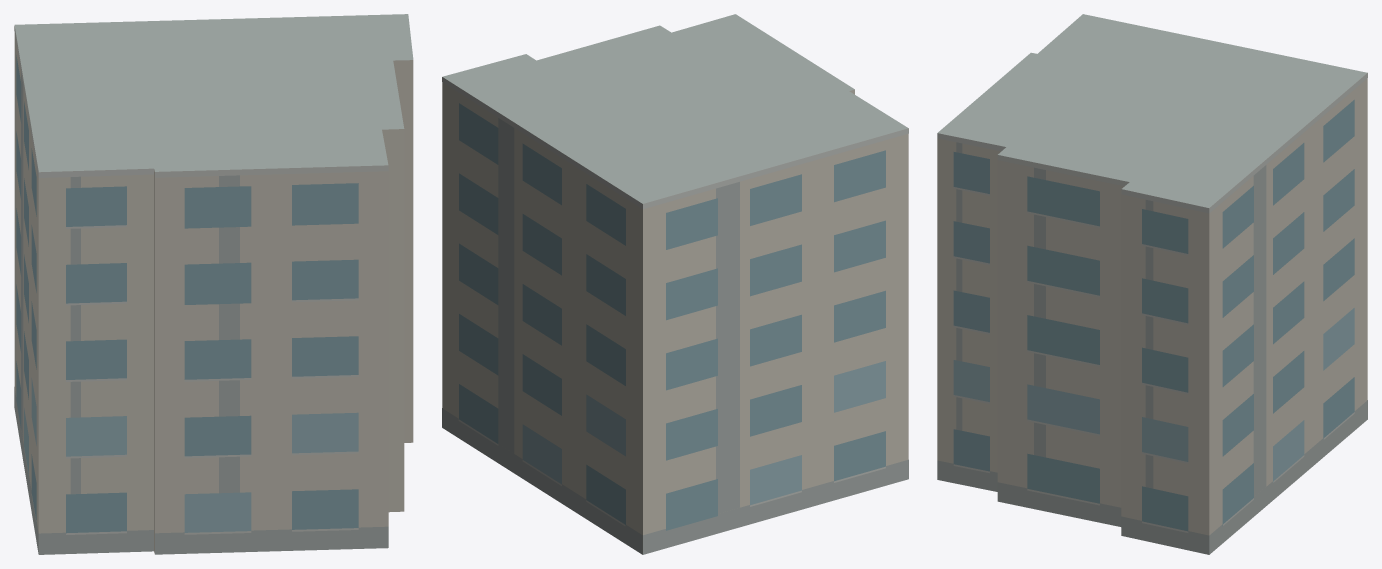
Rendered from survey-upis-32886570.glb.
The picture shows the model from 3 angles, left to right: view 1: azimuth 30°, elevation 25°; view 2: azimuth 150°, elevation 25°; view 3: azimuth 270°, elevation 25°; orthographic projection. The views are drawn at different scales.
Parts seen in each view (by area): view 1: survey-upis-32886570.tmp; view 2: survey-upis-32886570.tmp; view 3: survey-upis-32886570.tmp.
Boxes of the visible parts, x1,y1,x2,y2 form: survey-upis-32886570.tmp: (14,14,413,554); survey-upis-32886570.tmp: (442,14,908,554); survey-upis-32886570.tmp: (937,14,1367,554).
Size of the model in its own units: 19.11 by 15.9 by 17.9.
